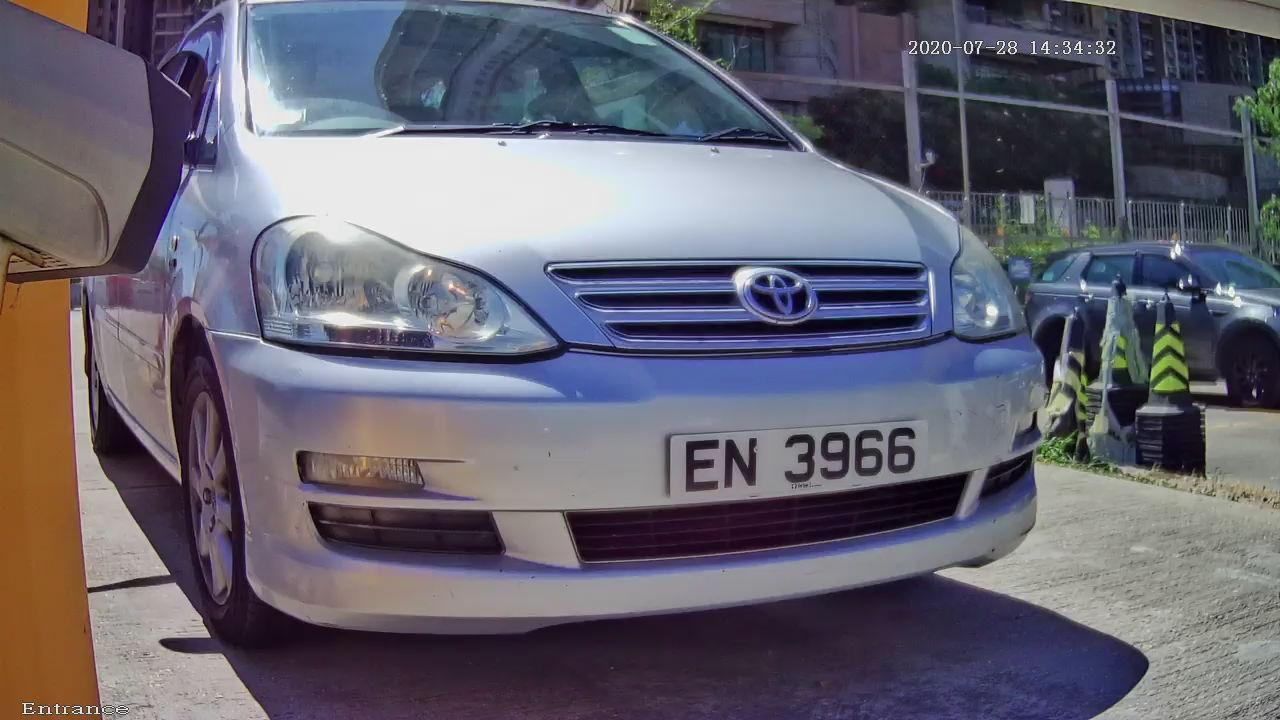privatecar: (46, 1, 1195, 704)
